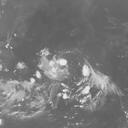cyclone: (36, 53, 105, 110)
